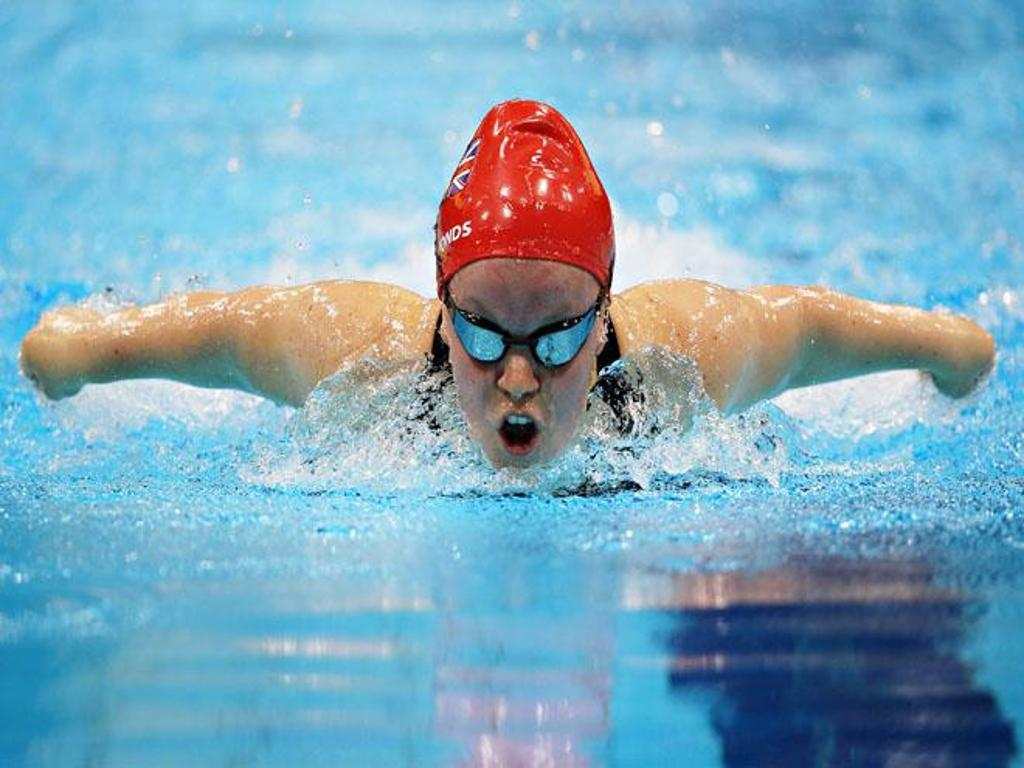face: (446, 278, 602, 474)
